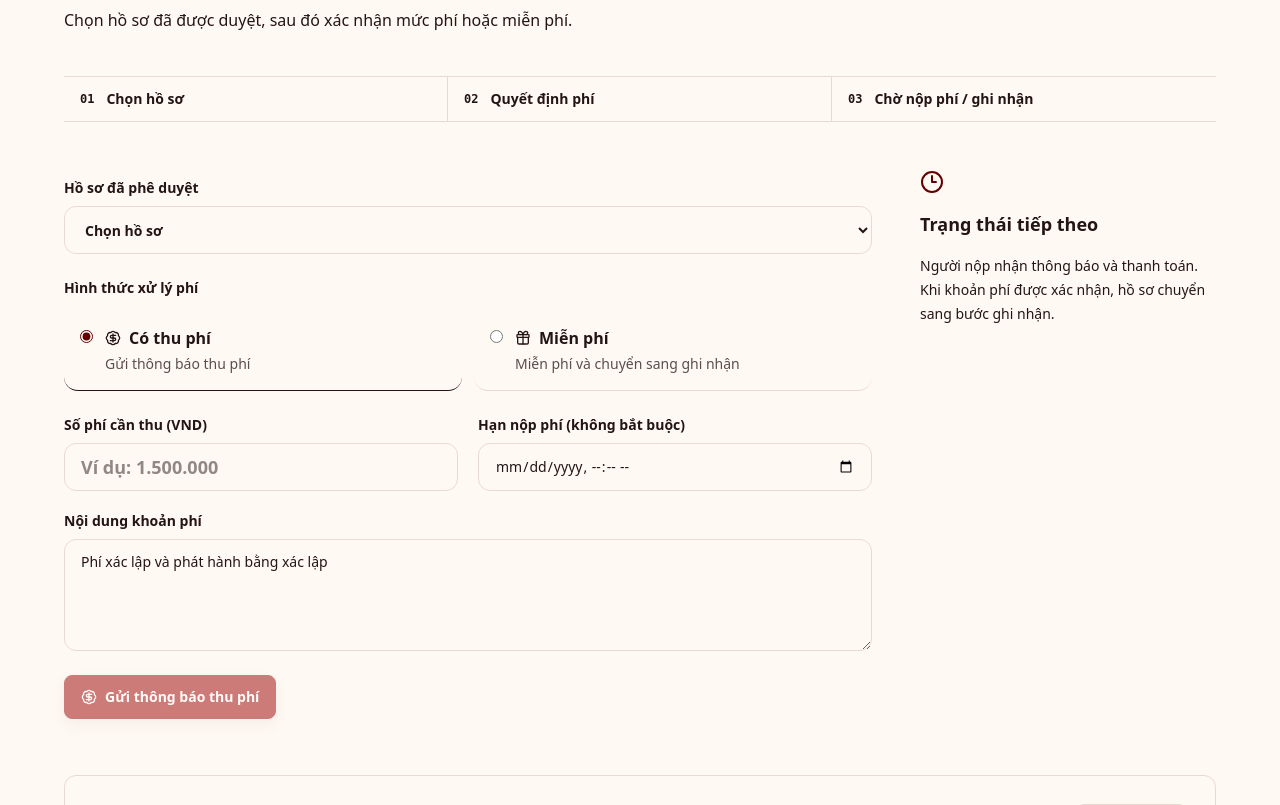
PaymentRequestWorkspace › sends the operator-entered amount instead of a fixed frontend price
Select "CNS-2026-C53E911EDDDA · Video chào mừng Tinh hoa Việt" in the dropdown labelled "Hồ sơ đã phê duyệt" at (468, 230), box [64,206,872,254]
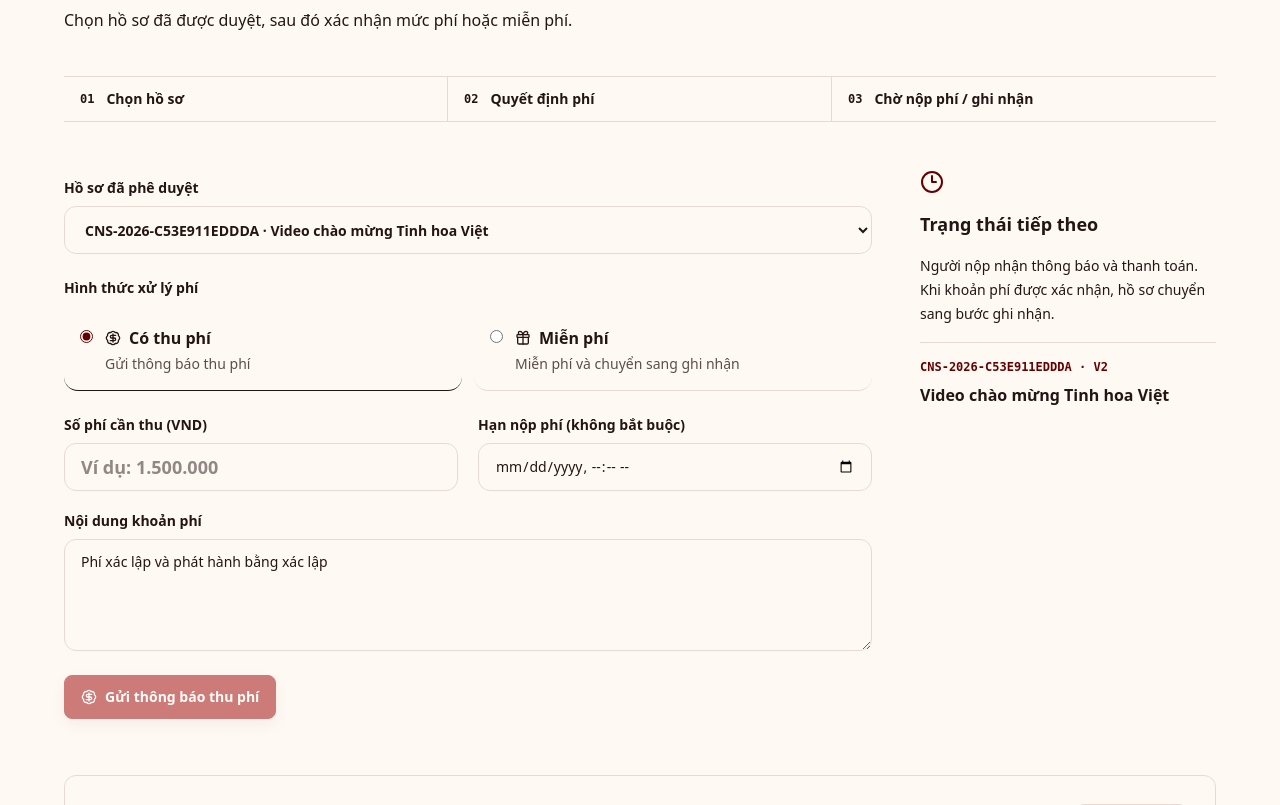
Type "1500000" into the field labelled "Số phí cần thu (VND)".
click(261, 467); type("1500000")  # box [64,443,458,491]
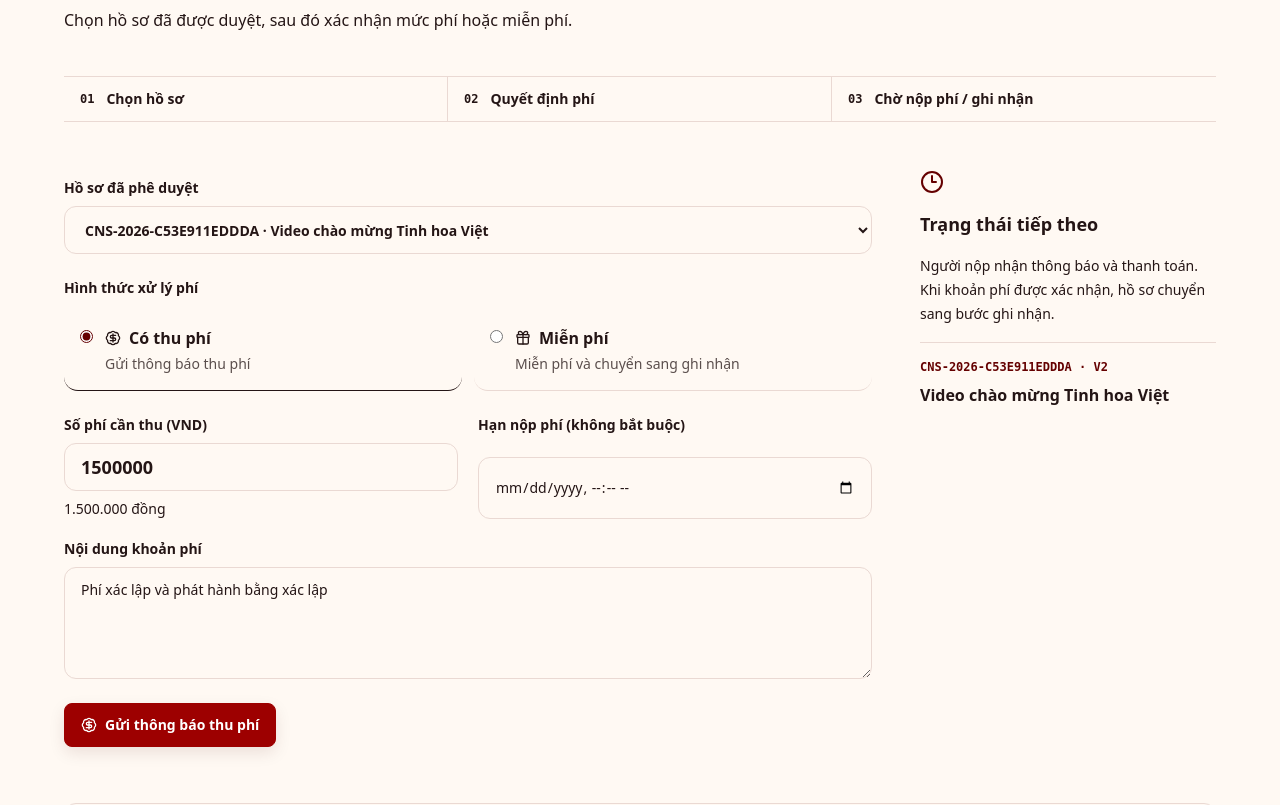
Result: the button "Gửi thông báo thu phí" is enabled
Click the button "Gửi thông báo thu phí".
click(170, 725)  # box [64,703,276,747]
(page scrolled)
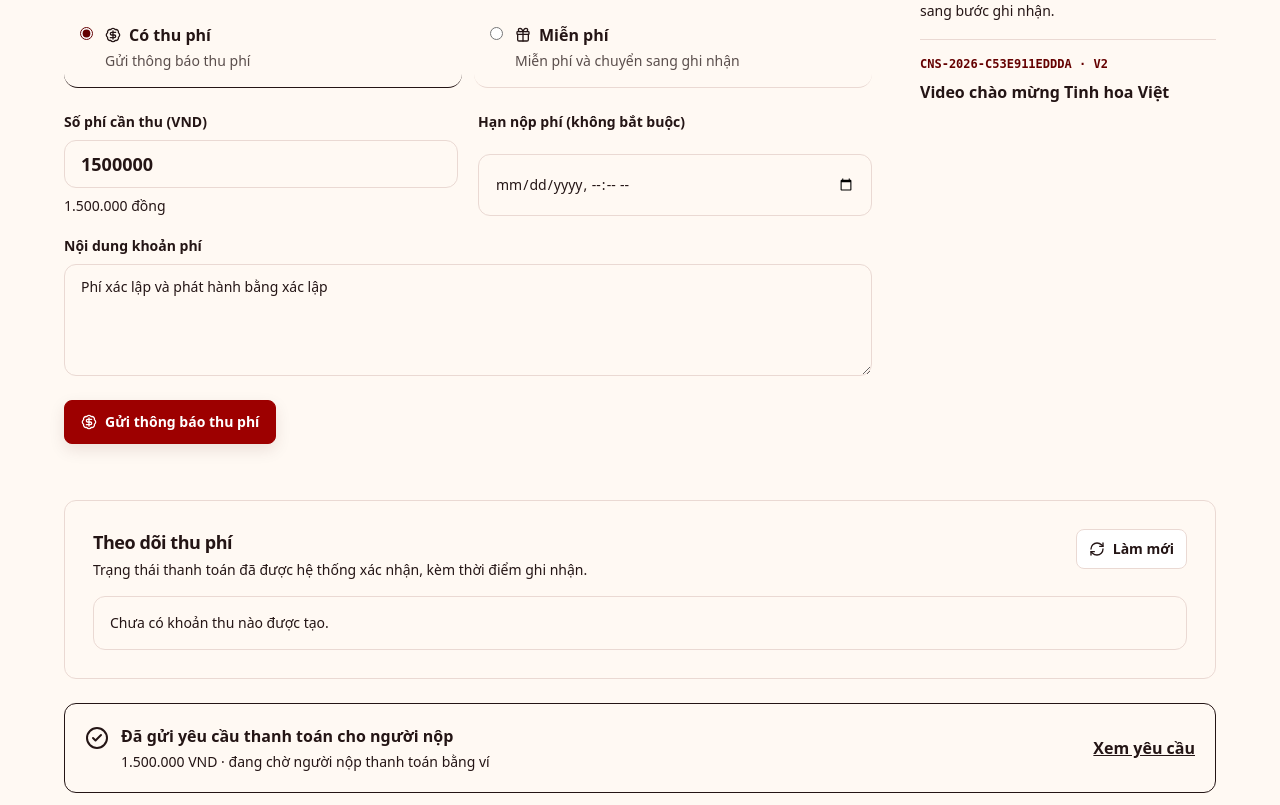
Result: the heading "Đã gửi yêu cầu thanh toán cho người nộp" is shown at [121,724,490,748]
